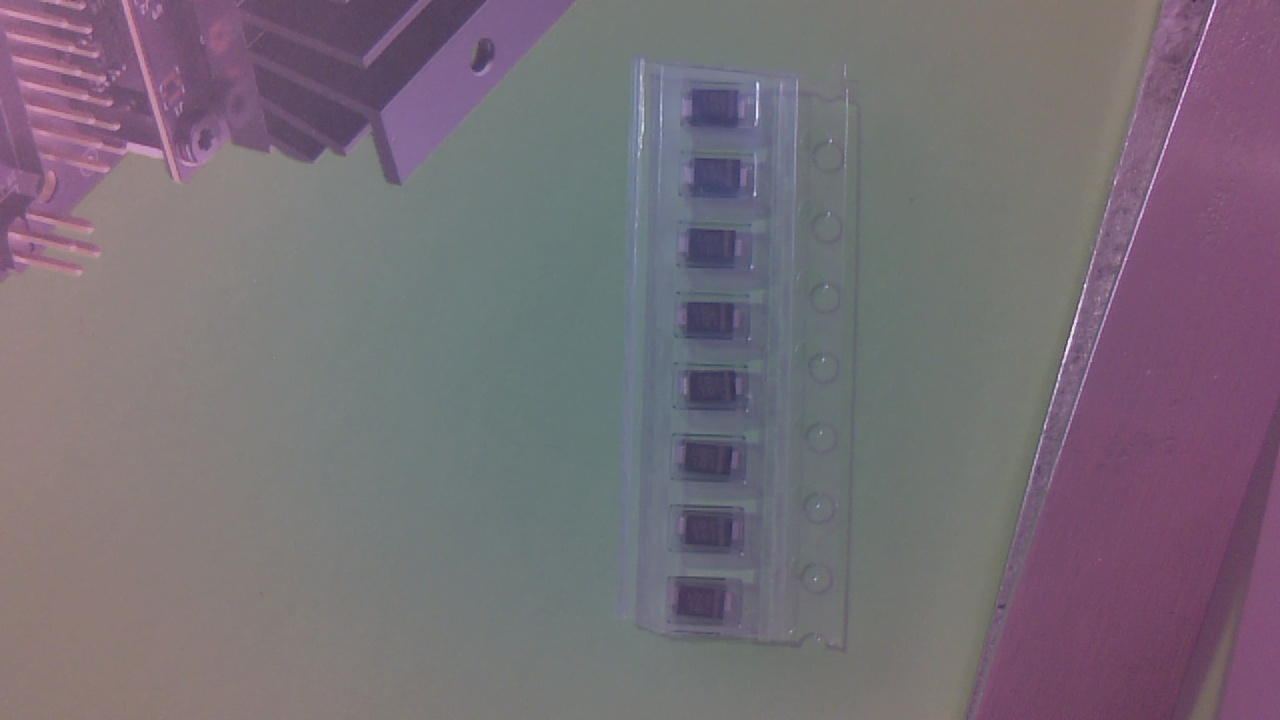Diode: (687, 92, 754, 134), (680, 512, 748, 553), (682, 442, 749, 482), (672, 586, 740, 624), (687, 160, 754, 198), (683, 233, 749, 270), (687, 373, 752, 410), (680, 305, 748, 339)
